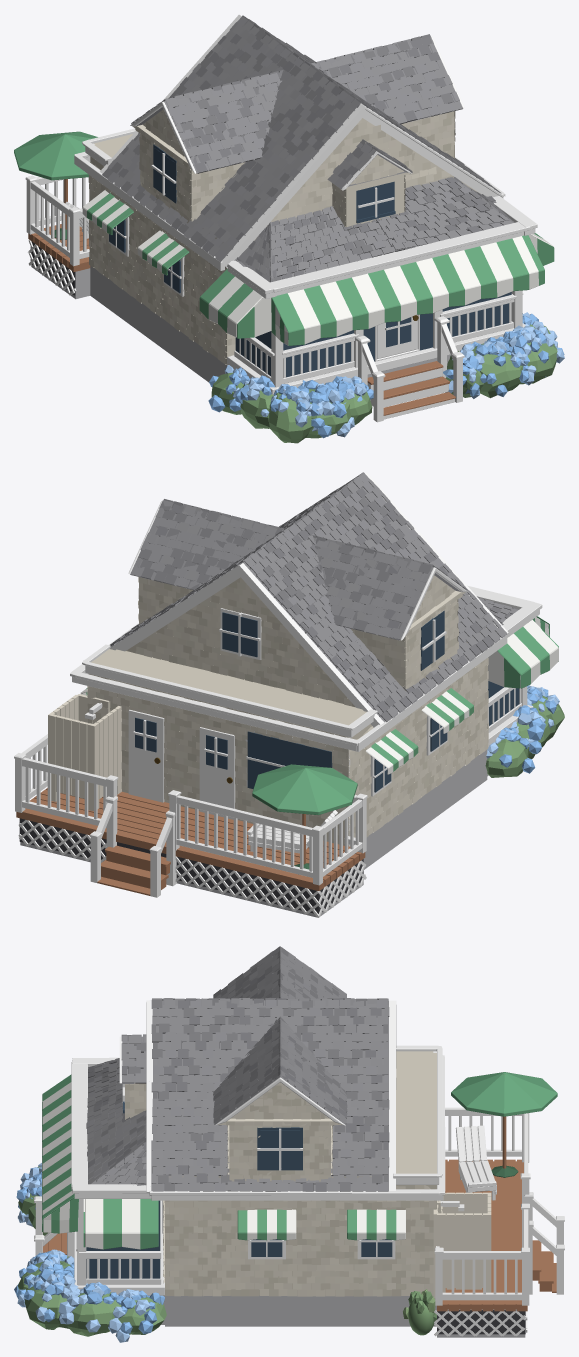
The model's file is house_anchored.preRecolor.glb.
3 renders of one model, top to bottom at view 1: azimuth 30°, elevation 25°; view 2: azimuth 150°, elevation 25°; view 3: azimuth 270°, elevation 25°, orthographic.
Parts seen in each view (by area): view 1: LP_shingles_main, LP_siding_shingles, LP_shingles_dormerSide, LP_awning_front, LP_hydrangeas, LP_shingles_roofTing, LP_foundation, LP_porch_beam, Sphere.001, LP_awning_front.001, LP_rake_F_L, LP_dormer_roof (+37 smaller); view 2: LP_siding_shingles, LP_shingles_main, LP_shingles_dormerSide, LP_deck, LP_body, Sphere.001, LP_hydrangeas, LP_frieze_B, LP_foundation, LP_fascia_R, LP_shower_wallF, LP_backdoor.001 (+40 smaller); view 3: LP_shingles_main, LP_siding_shingles, LP_shingles_dormerSide, LP_hydrangeas, LP_foundation, LP_body, LP_shingles_roofTing, LP_deck, LP_roof, LP_awning_front, LP_awning_front.001, Sphere.001 (+33 smaller).
Part boxes in pixels (box(x1,y1,x2,y2)): LP_shingles_main: box(102, 16, 501, 262); LP_siding_shingles: box(88, 111, 480, 364); LP_shingles_dormerSide: box(131, 36, 462, 173); LP_awning_front: box(272, 235, 544, 345); LP_hydrangeas: box(208, 312, 564, 443); LP_shingles_roofTing: box(235, 177, 512, 282); LP_foundation: box(90, 266, 227, 382); LP_porch_beam: box(270, 222, 530, 295); Sphere.001: box(14, 131, 97, 180); LP_awning_front.001: box(199, 233, 553, 337); LP_rake_F_L: box(222, 103, 367, 268); LP_dormer_roof: box(132, 44, 463, 173); LP_siding_shingles: box(87, 577, 488, 846); LP_shingles_main: box(110, 472, 507, 722); LP_shingles_dormerSide: box(130, 500, 467, 640); LP_deck: box(16, 788, 365, 891); LP_body: box(88, 649, 487, 846); Sphere.001: box(252, 764, 357, 815); LP_hydrangeas: box(485, 685, 564, 777); LP_frieze_B: box(82, 644, 377, 737); LP_foundation: box(363, 750, 487, 869); LP_fascia_R: box(70, 623, 357, 751); LP_shower_wallF: box(48, 713, 96, 810); LP_backdoor.001: box(128, 709, 164, 802); LP_shingles_main: box(151, 998, 389, 1191); LP_siding_shingles: box(125, 1083, 442, 1296); LP_shingles_dormerSide: box(213, 947, 347, 1123); LP_hydrangeas: box(14, 1163, 166, 1342); LP_foundation: box(165, 1295, 436, 1326); LP_body: box(165, 1051, 436, 1295); LP_shingles_roofTing: box(86, 1060, 146, 1185); LP_deck: box(437, 1159, 527, 1311); LP_roof: box(151, 1000, 388, 1190); LP_awning_front: box(42, 1074, 74, 1231); LP_awning_front.001: box(85, 1199, 158, 1249); Sphere.001: box(451, 1072, 557, 1116).
Bounding box in the file's own units: 5.02 × 3.99 × 7.29.
